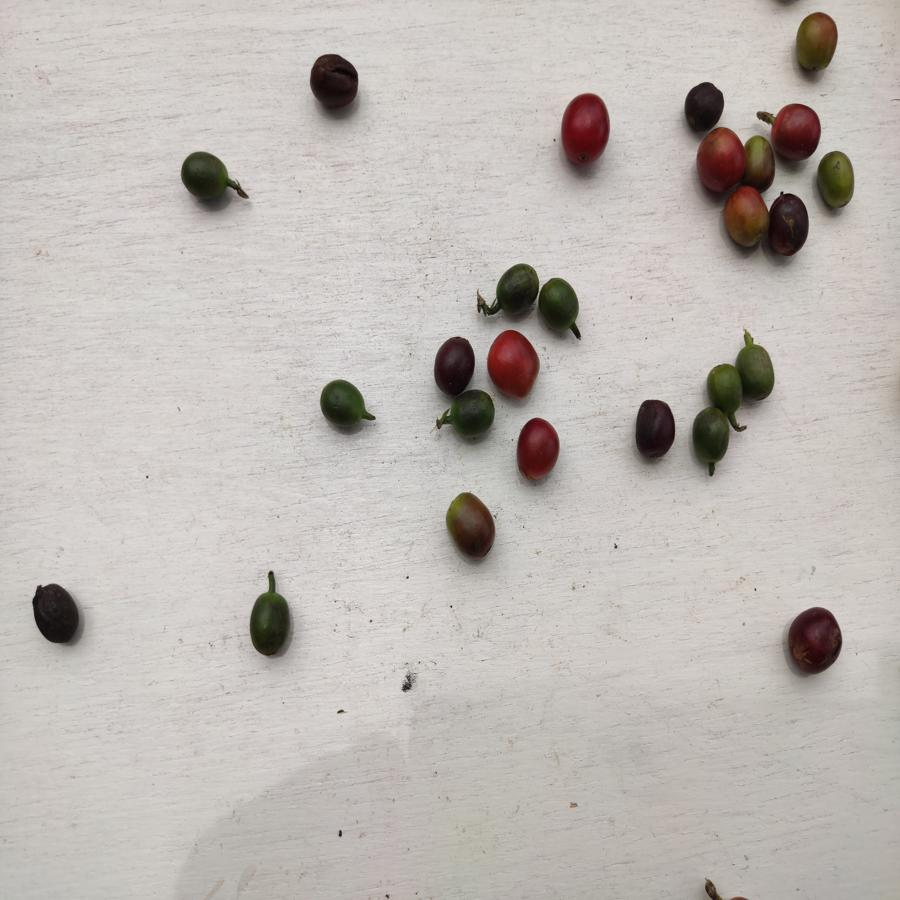Inmaduro: (248, 590, 290, 658), (180, 150, 229, 203), (319, 380, 371, 429), (494, 262, 540, 316), (446, 390, 496, 439), (540, 278, 583, 334), (736, 337, 773, 398), (692, 408, 731, 465), (708, 362, 743, 419)
Maduro: (485, 328, 541, 399), (559, 93, 611, 167), (770, 102, 822, 161), (515, 416, 562, 481), (698, 127, 744, 192)
Pinton: (443, 491, 497, 562), (792, 8, 841, 73), (725, 184, 767, 255), (817, 150, 858, 215), (745, 135, 773, 191)
Sobremaduro: (786, 606, 846, 674), (28, 582, 83, 651), (306, 50, 361, 114), (770, 188, 813, 261), (630, 399, 679, 462), (432, 335, 475, 396), (684, 78, 725, 132)
